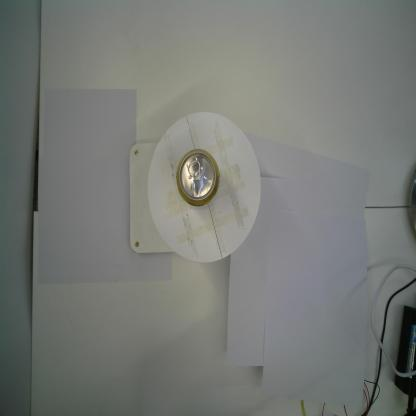Alcohol: (175, 147, 221, 208)
